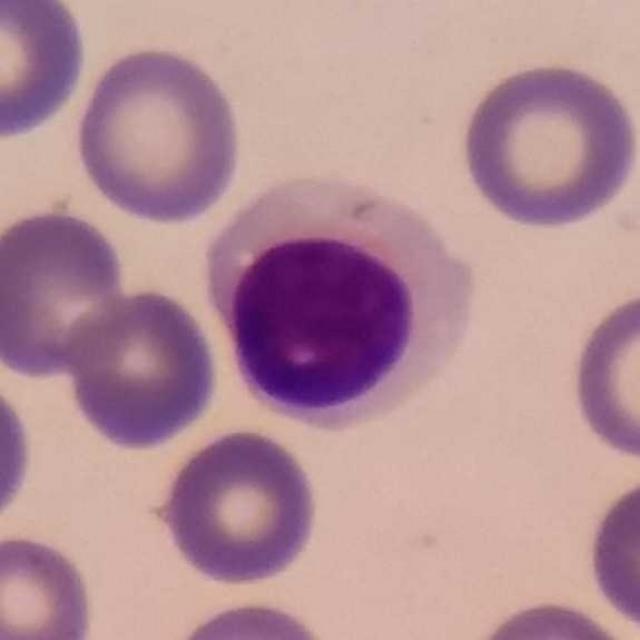Lymphocyte: (202, 192, 468, 436)
RBC: (69, 40, 247, 227), (455, 56, 639, 232), (152, 424, 323, 589), (61, 284, 223, 453), (0, 202, 132, 380), (565, 283, 640, 465), (0, 0, 91, 143), (0, 530, 100, 640), (582, 467, 640, 639), (162, 595, 340, 640), (462, 595, 637, 640), (0, 367, 37, 533)
